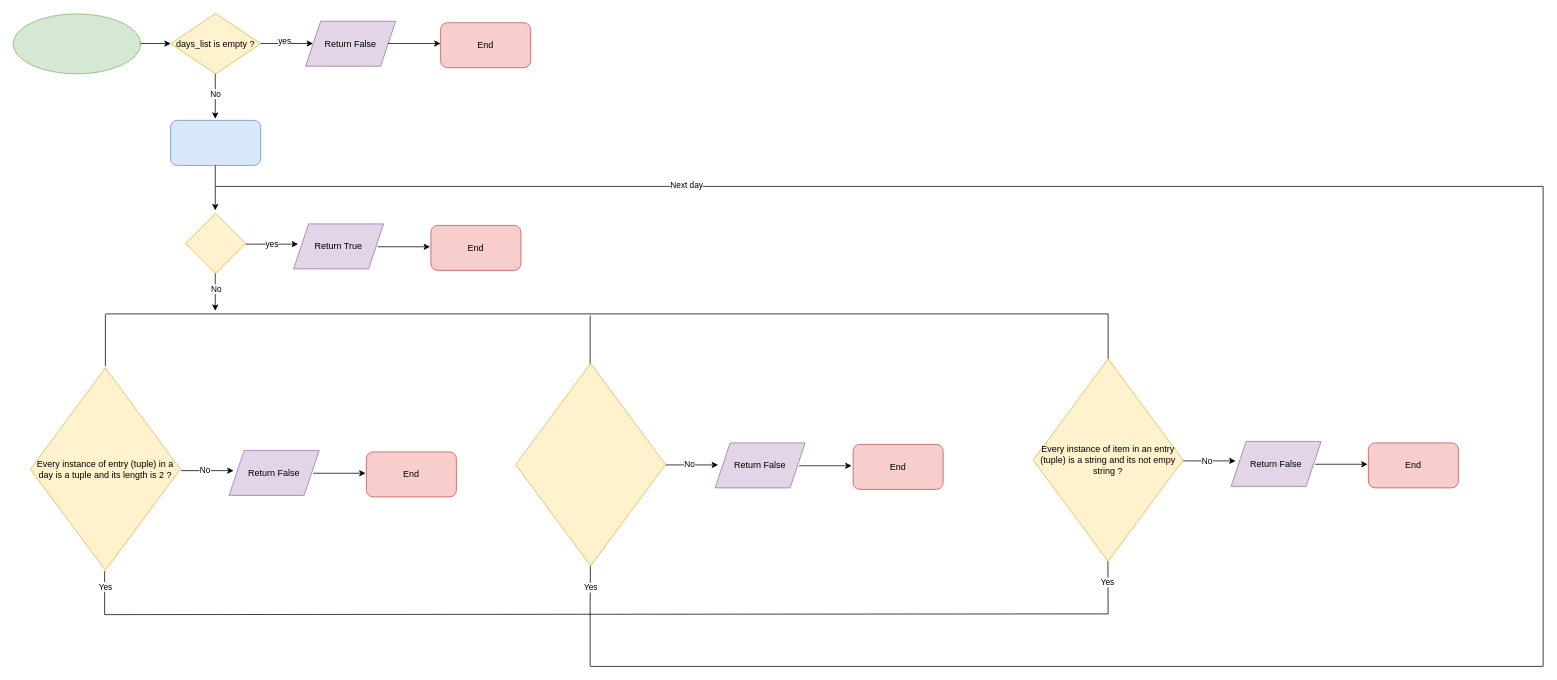
The diagram is 1557 pixels wide and 680 high, and some of its shapes have lost their labels. Each missing label, with the box of its shape:
For each day in days_list: (170, 120, 261, 165)
is day is instance of list ?: (515, 363, 666, 566)
Last item?: (185, 213, 246, 273)
Start: (12, 13, 141, 74)
